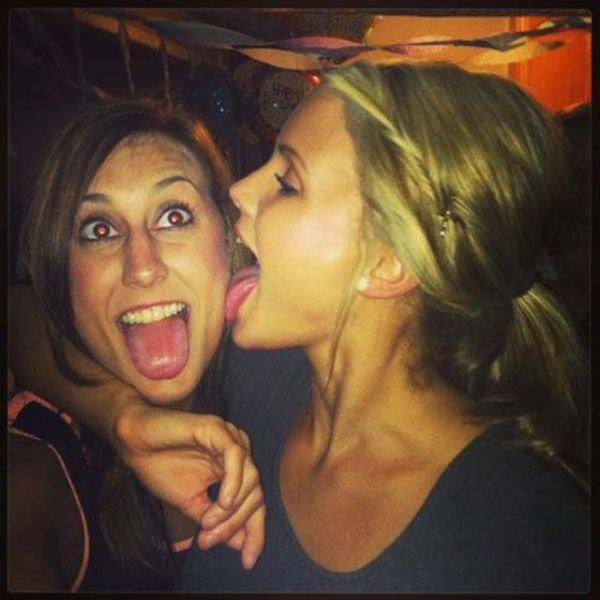Drunk: (73, 153, 224, 394), (228, 104, 359, 351)
